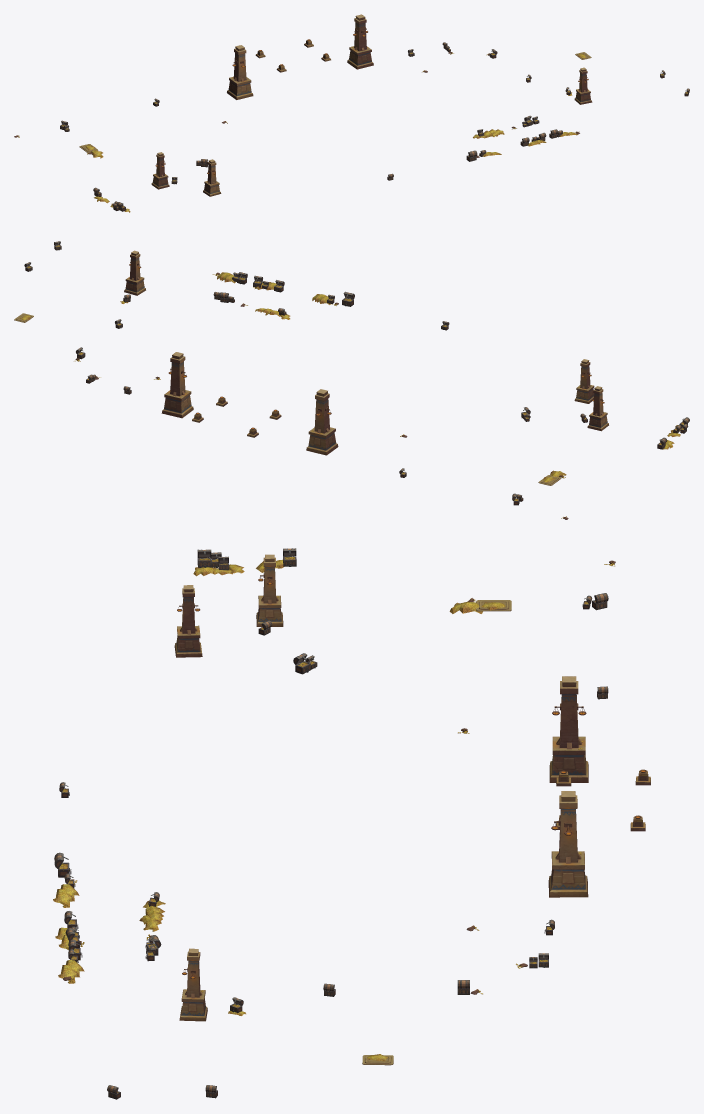
Rendered from prop_group2.fbx.
The picture shows the model from 3 angles, top to bottom: view 1: azimuth 30°, elevation 25°; view 2: azimuth 150°, elevation 25°; view 3: azimuth 270°, elevation 25°; orthographic projection. The views are drawn at different scales.
Parts seen in each view (by area): view 1: prop_group2; view 2: prop_group2; view 3: prop_group2.
Boxes of the visible parts, x1,y1,x2,y2 form: prop_group2: (14,14,689,212); prop_group2: (14,241,689,519); prop_group2: (53,548,650,1099).
Size of the model in its own units: 19671 by 1721 by 9203.
